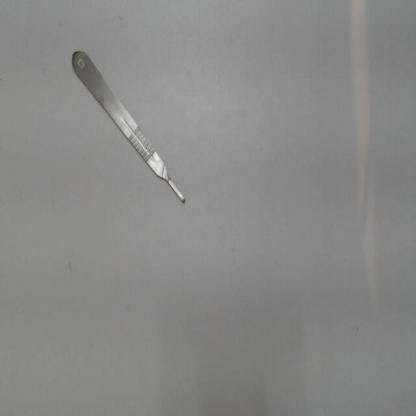No.3 BP Handle: (57, 36, 202, 226)
